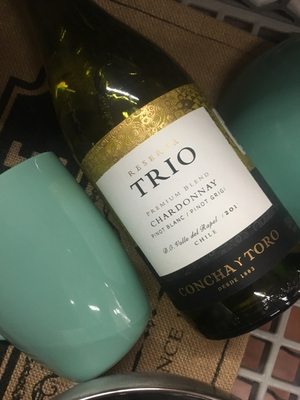trio chardonnay: (59, 41, 293, 316)
